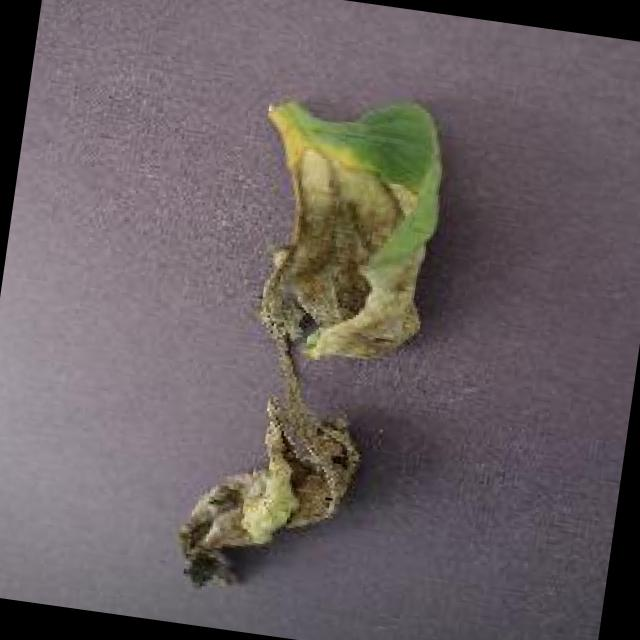Tomato_Late_Blight: (163, 136, 444, 626)
